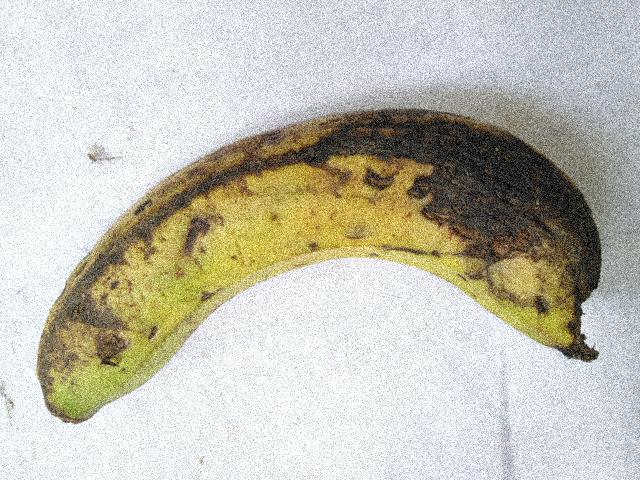rotten: (28, 81, 623, 414)
